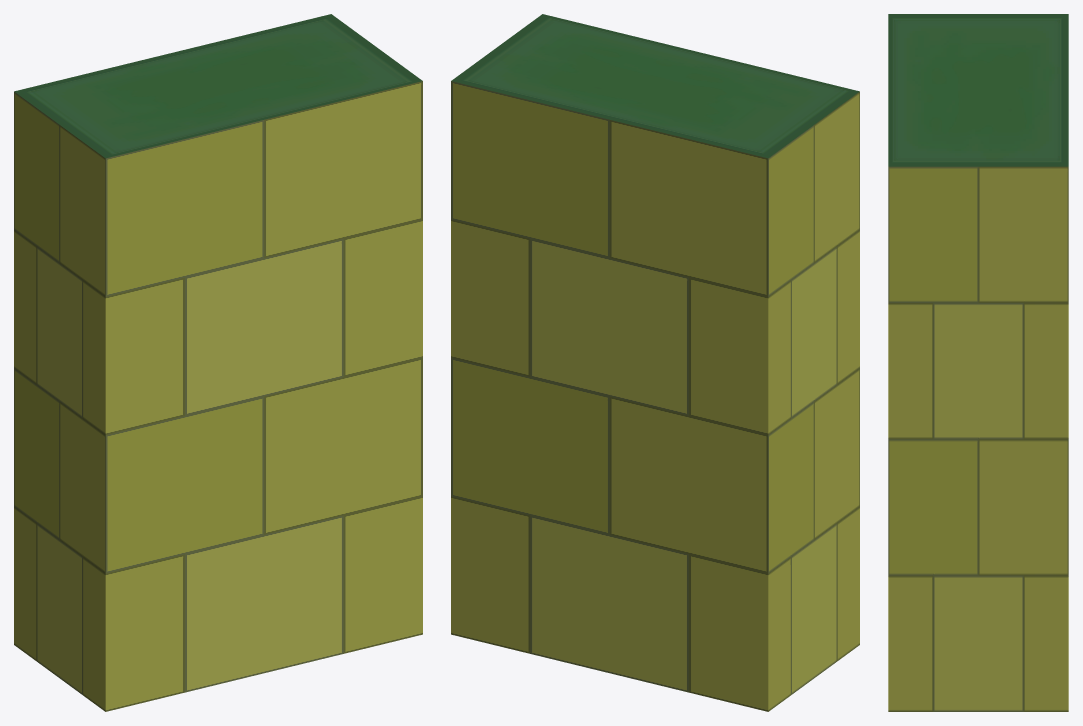
Rendered from WallBlock 328.fbx.
3 renders of one model, left to right at view 1: azimuth 30°, elevation 25°; view 2: azimuth 150°, elevation 25°; view 3: azimuth 270°, elevation 25°, orthographic.
Visible parts, largest first — view 1: WallBlock 328; view 2: WallBlock 328; view 3: WallBlock 328.
Part boxes in pixels (left/top/right/bottom): WallBlock 328: left=14, top=14, right=422, bottom=711; WallBlock 328: left=451, top=14, right=859, bottom=711; WallBlock 328: left=888, top=14, right=1068, bottom=711.
Bounding box in the file's own units: 1.2 × 2 × 0.6.
